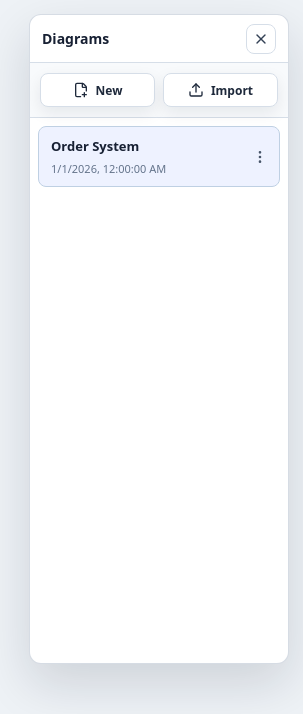
Test: DiagramsPanel › closes the row menu when clicking outside it
Click the button named "More actions for Order System": click(260, 156) [245, 142, 275, 172]
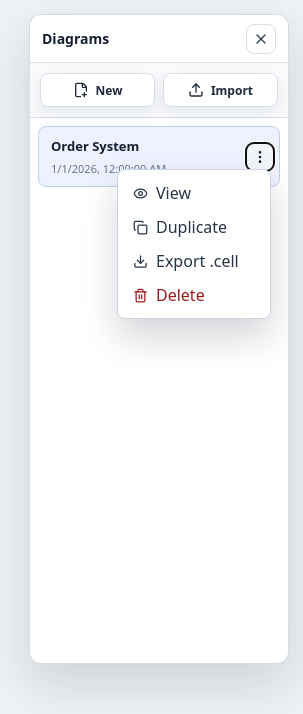
Expected: the menu item "Duplicate" is shown, [124, 210, 264, 244]
Press the mouse on the text "Diagrams": (76, 38) [42, 29, 109, 48]
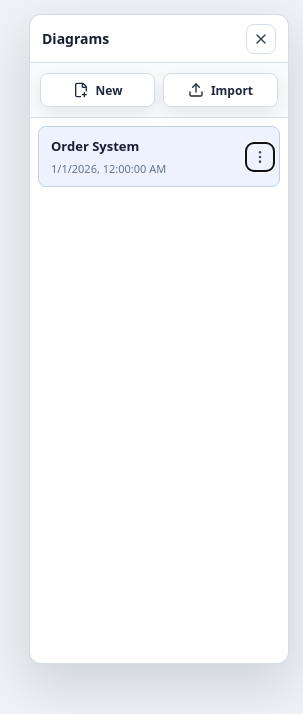
Expected: the menu item "Duplicate" is gone
